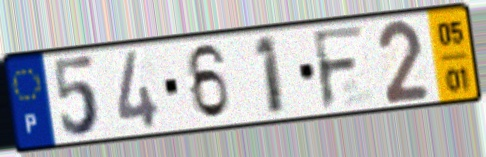1: (252, 32, 291, 118)
2: (375, 16, 434, 108)
4: (114, 48, 163, 133)
5: (51, 51, 107, 141)
6: (185, 42, 232, 124)
F: (309, 22, 368, 113)
